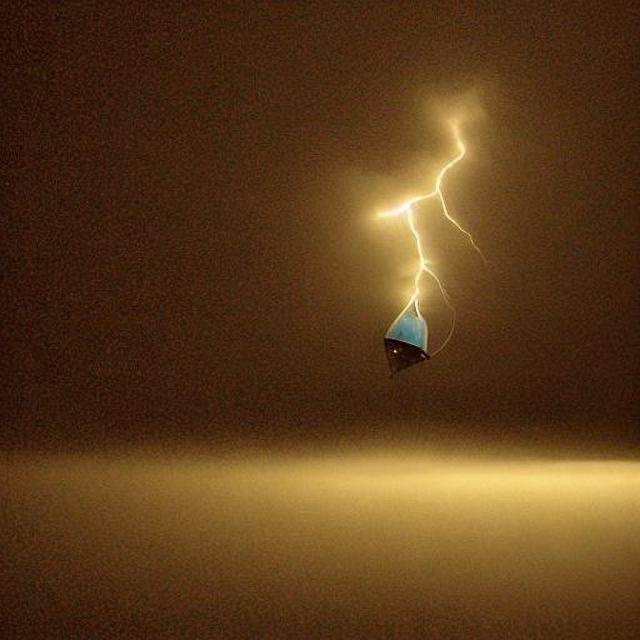floating object: (382, 311, 432, 379)
